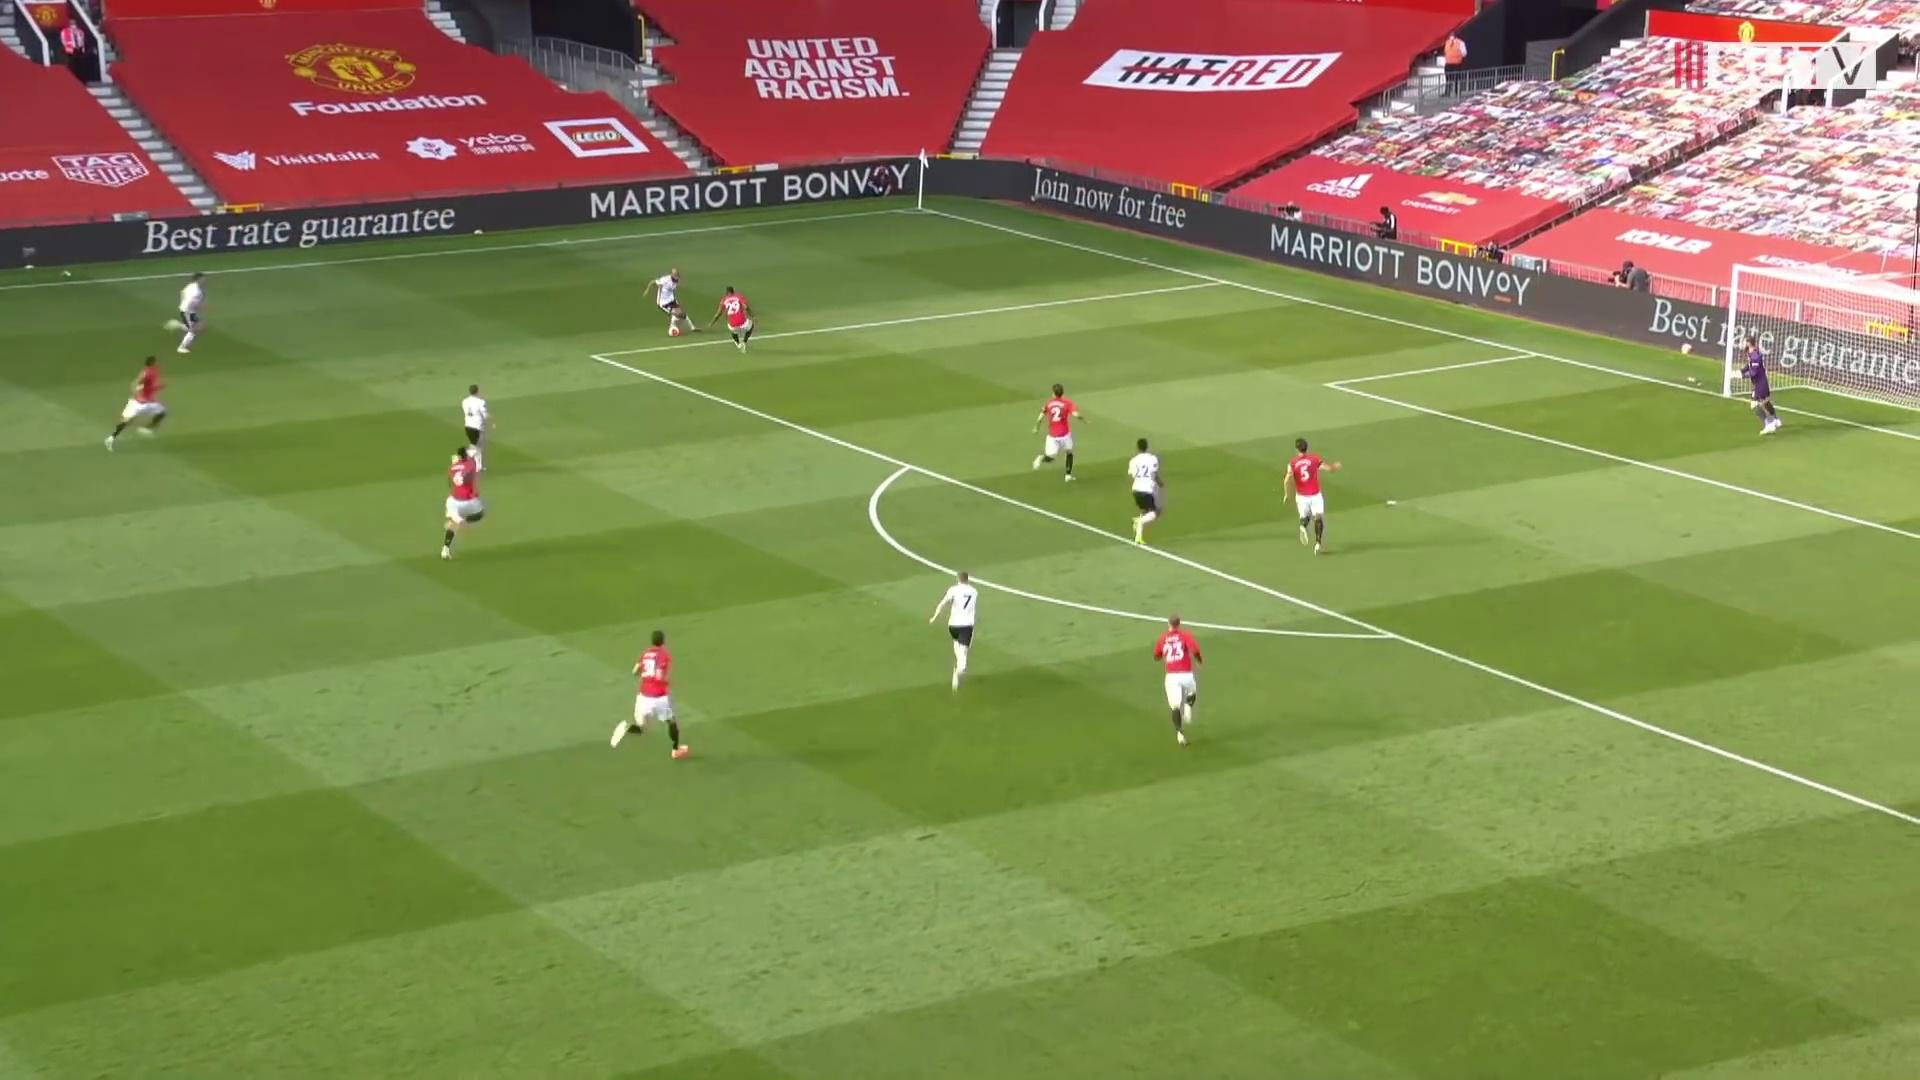ball: (668, 325, 681, 338)
goalkeeper: (1728, 332, 1791, 437)
player: (608, 628, 697, 764), (1149, 613, 1209, 747), (1278, 434, 1343, 556), (928, 568, 985, 697), (102, 352, 172, 452), (439, 440, 495, 562), (1031, 380, 1091, 486), (1126, 434, 1174, 550), (456, 381, 500, 474), (166, 271, 212, 359), (648, 264, 700, 341), (707, 285, 758, 356)
